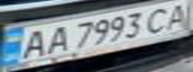3: (124, 10, 151, 39)
7: (69, 19, 97, 52)
9: (90, 16, 115, 47), (106, 14, 130, 44)
A: (15, 26, 51, 61), (39, 22, 72, 56), (160, 1, 193, 31)
C: (139, 3, 178, 35)
